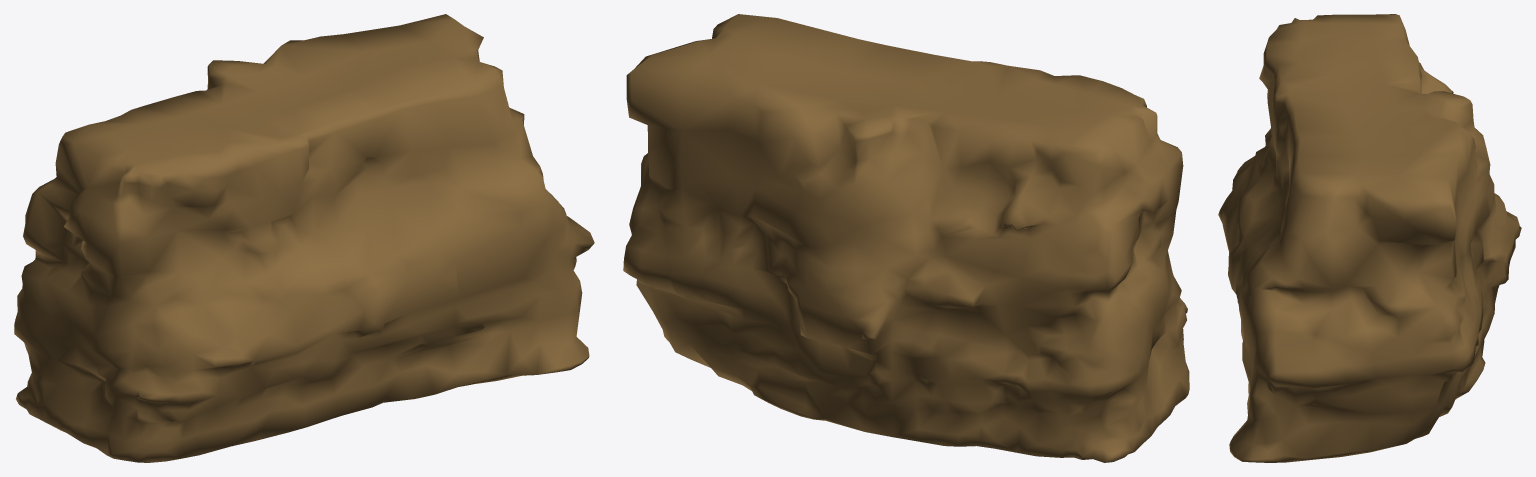
Rendered from MSH_Rocks_Cliff_13_a.FBX.
3 views of the same model, side by side, from view 1: azimuth 30°, elevation 25°; view 2: azimuth 150°, elevation 25°; view 3: azimuth 270°, elevation 25° (orthographic). The views are drawn at different scales.
Visible parts, largest first — view 1: MESH_LOD0; view 2: MESH_LOD0; view 3: MESH_LOD0.
Part boxes in pixels (x1,y1,x2,y2): MESH_LOD0: [14, 14, 594, 462]; MESH_LOD0: [623, 14, 1189, 462]; MESH_LOD0: [1218, 14, 1521, 462].
Size of what is drawn, in the model's own units: 425 by 239 by 243.
